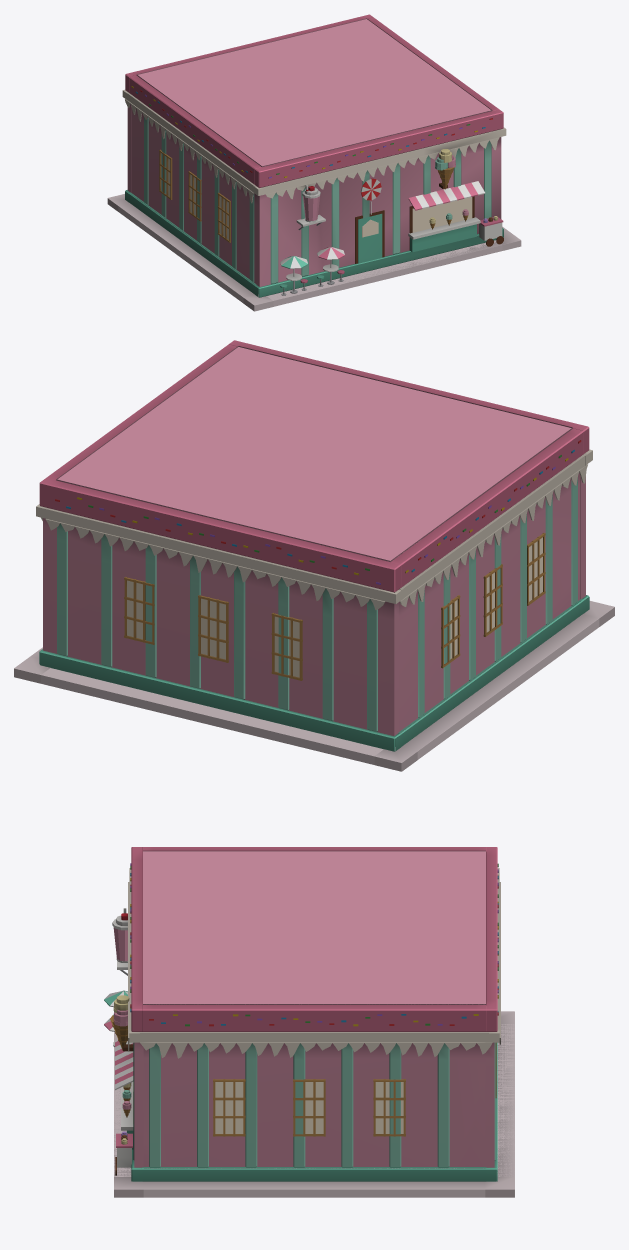
The model's file is StrawSnakeFloor.fbx.
3 views of the same model, one above another, from view 1: azimuth 30°, elevation 25°; view 2: azimuth 150°, elevation 25°; view 3: azimuth 270°, elevation 25° (orthographic). The views are drawn at different scales.
Visible parts, largest first — view 1: IC_F_Rings, IC_S_All, IC_F_Quiet, IC_F_Smooth, IC_F_Props, IC_F_Glass; view 2: IC_F_Rings, IC_S_All, IC_F_Quiet, IC_F_Smooth, IC_F_Glass; view 3: IC_S_All, IC_F_Rings, IC_F_Quiet, IC_F_Smooth, IC_F_Glass, IC_F_Props.
Part boxes in pixels (box(x1,y1,x2,y2)): IC_F_Rings: box(122, 18, 506, 297); IC_S_All: box(108, 19, 518, 311); IC_F_Quiet: box(108, 14, 520, 305); IC_F_Smooth: box(107, 17, 521, 311); IC_F_Props: box(280, 149, 502, 268); IC_F_Glass: box(161, 153, 472, 239); IC_F_Rings: box(36, 346, 592, 751); IC_S_All: box(14, 347, 614, 771); IC_F_Quiet: box(14, 340, 614, 762); IC_F_Smooth: box(14, 344, 614, 771); IC_F_Glass: box(127, 537, 542, 677); IC_S_All: box(114, 851, 514, 1197); IC_F_Rings: box(129, 850, 499, 1181); IC_F_Quiet: box(114, 847, 514, 1189); IC_F_Smooth: box(104, 847, 514, 1197); IC_F_Glass: box(113, 927, 403, 1133); IC_F_Props: box(104, 913, 133, 1167).
Bounding box in the file's own units: 60 × 20 × 60.
